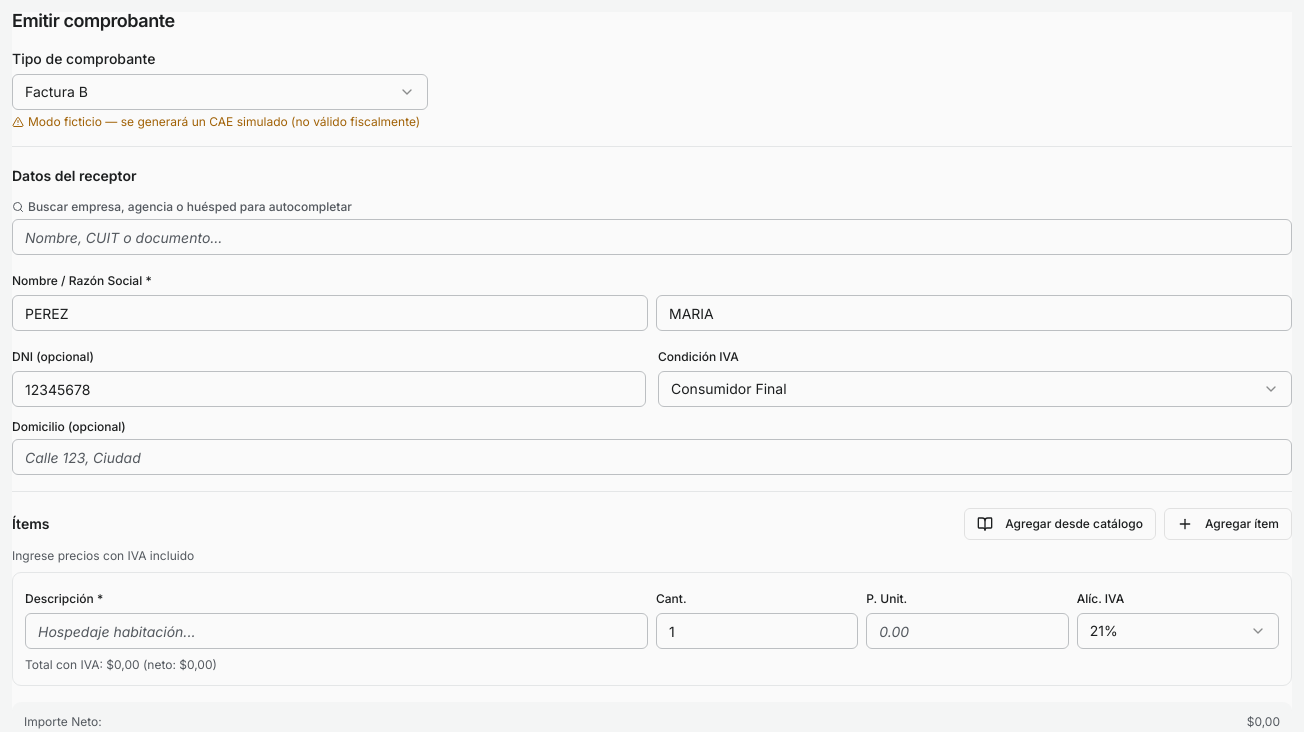
Scenario: EmitirFacturaDialog — anticipo de reserva a nombre del huésped › al elegir una empresa del buscador, se cambia al campo único de Razón Social con sus datos (no queda en el split de huésped en blanco)
The image size is (1304, 732).
Expected: the field with test id "input-guest-last-name" is shown, [12,295,648,331]
Type "Empresa RI" into the field with test id "input-entity-search" at [652, 237], box [12,219,1292,255]
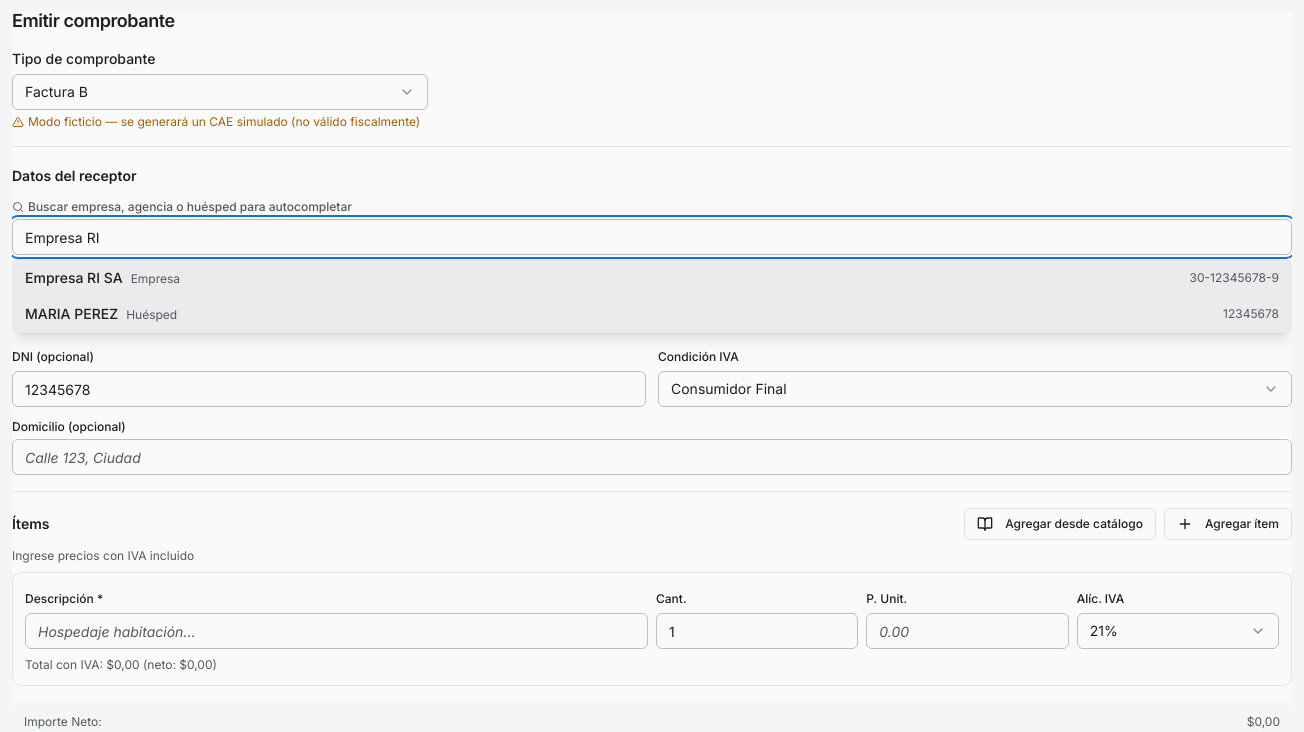
Click the text "Empresa RI SA" at [74, 278], box [25,269,123,286]
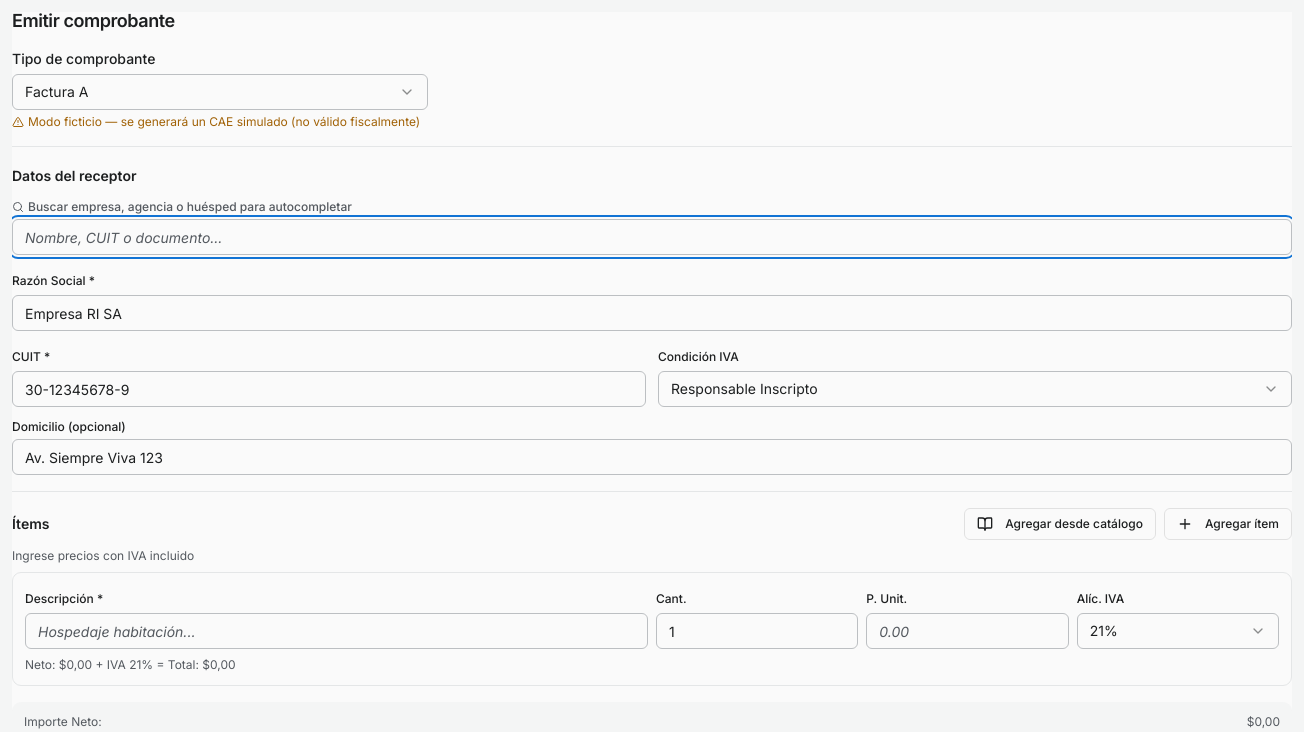
Expected: the field with test id "input-razon-social" holds "Empresa RI SA", [12,295,1292,331]
Expected: the field with test id "input-guest-last-name" is gone
Expected: the dropdown with test id "select-condicion-iva" reads "Responsable Inscripto", [658,371,1292,407]
